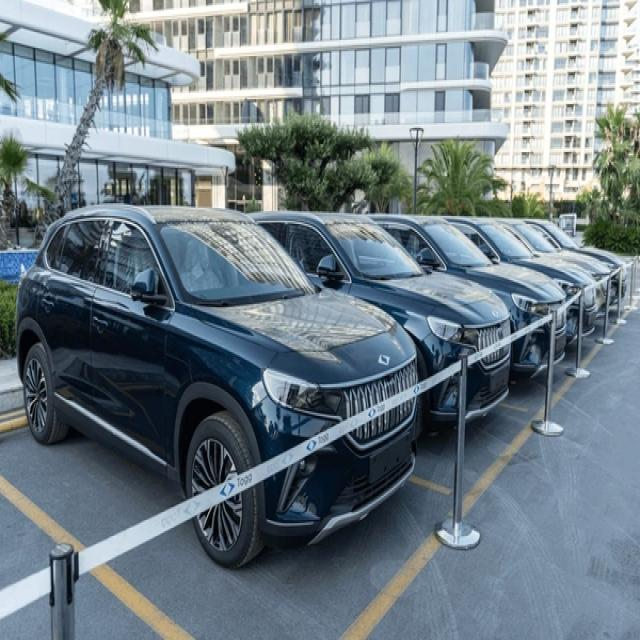togg: (373, 348, 392, 374), (487, 305, 503, 326)
